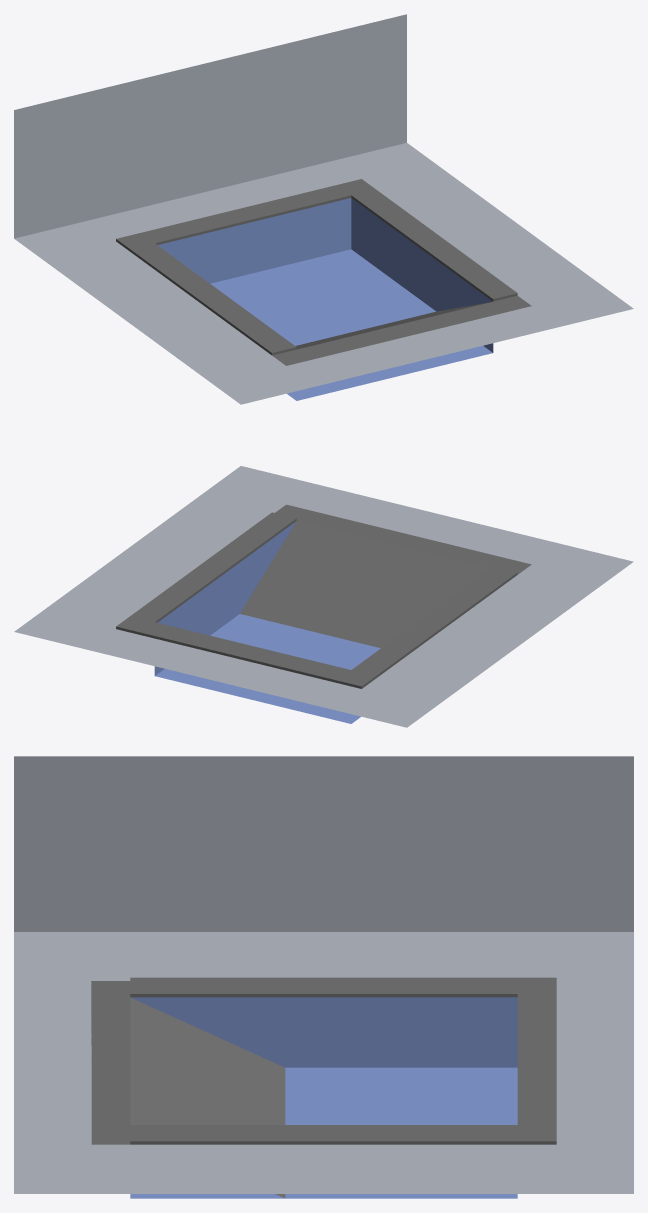
The model's file is swimming-pool.gltf.
The picture shows the model from 3 angles, top to bottom: view 1: azimuth 30°, elevation 25°; view 2: azimuth 150°, elevation 25°; view 3: azimuth 270°, elevation 25°; orthographic projection. The views are drawn at different scales.
Visible parts, largest first — view 1: Scene, Pool, Plane.004, Plane.003, Plane.001, Plane.002; view 2: Scene, Plane.004, Pool, Plane.003, Plane.001, Plane.002; view 3: Scene, Pool, Plane.004, Plane.001, Plane.002, Plane.003.
Boxes of the visible parts, x1,y1,x2,y2 form: Scene: (14,14,633,404); Pool: (158,198,493,400); Plane.004: (272,295,531,365); Plane.003: (116,179,375,251); Plane.001: (130,243,296,355); Plane.002: (351,189,517,301); Scene: (14,466,633,727); Plane.004: (240,504,531,648); Pool: (154,521,380,723); Plane.003: (116,616,375,688); Plane.001: (351,566,517,678); Plane.002: (130,512,296,622); Scene: (14,756,633,1193); Pool: (130,997,517,1198); Plane.004: (91,981,285,1198); Plane.001: (130,977,517,997); Plane.002: (130,1125,517,1144); Plane.003: (517,977,556,1144).
Size of the model in its own units: 16 by 7 by 16.
